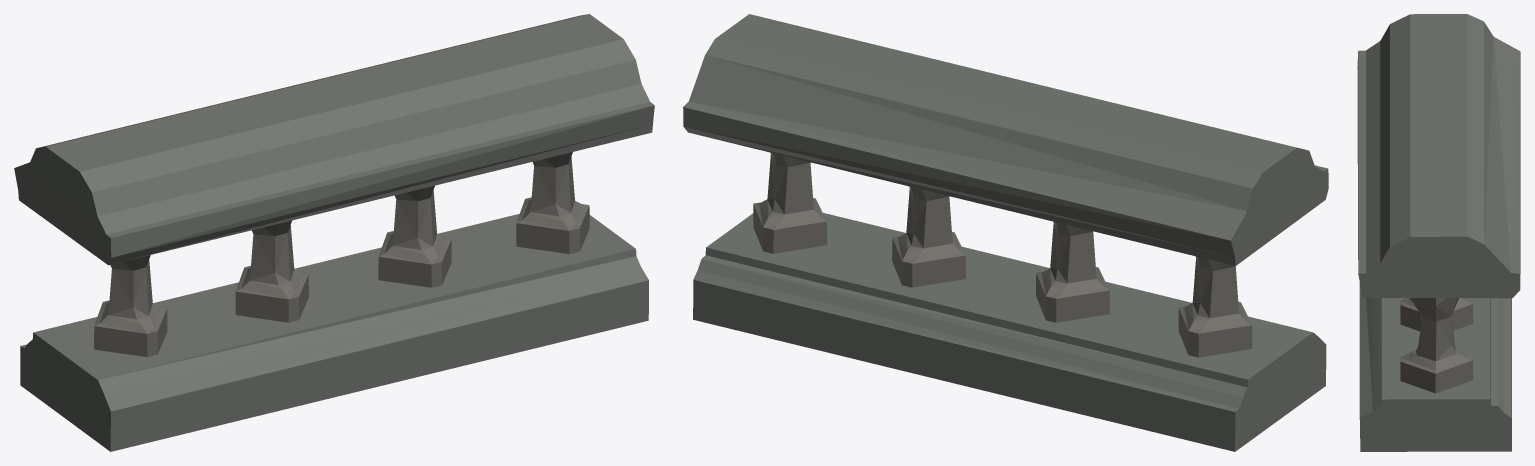
The model's file is MCastle_Baluster_Straight_01.FBX.
The picture shows the model from 3 angles, left to right: view 1: azimuth 30°, elevation 25°; view 2: azimuth 150°, elevation 25°; view 3: azimuth 270°, elevation 25°; orthographic projection. The views are drawn at different scales.
Parts seen in each view (by area): view 1: MCastle_Baluster_Straight_01_LOD0; view 2: MCastle_Baluster_Straight_01_LOD0; view 3: MCastle_Baluster_Straight_01_LOD0.
Part boxes in pixels (x1=…): MCastle_Baluster_Straight_01_LOD0: x1=14, y1=14, x2=654, y2=451; MCastle_Baluster_Straight_01_LOD0: x1=683, y1=14, x2=1328, y2=451; MCastle_Baluster_Straight_01_LOD0: x1=1357, y1=14, x2=1520, y2=451.
Size of what is drawn, in the model's own units: 2.64 by 1.2 by 0.8164.
